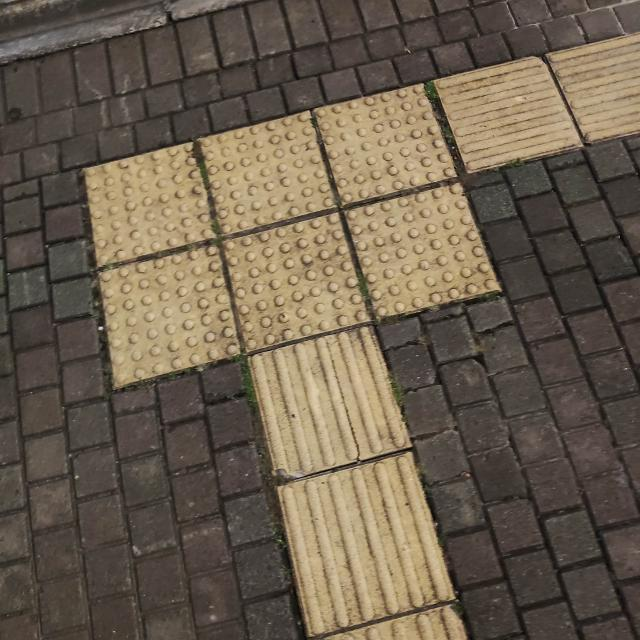kanan: (149, 59, 640, 382)
